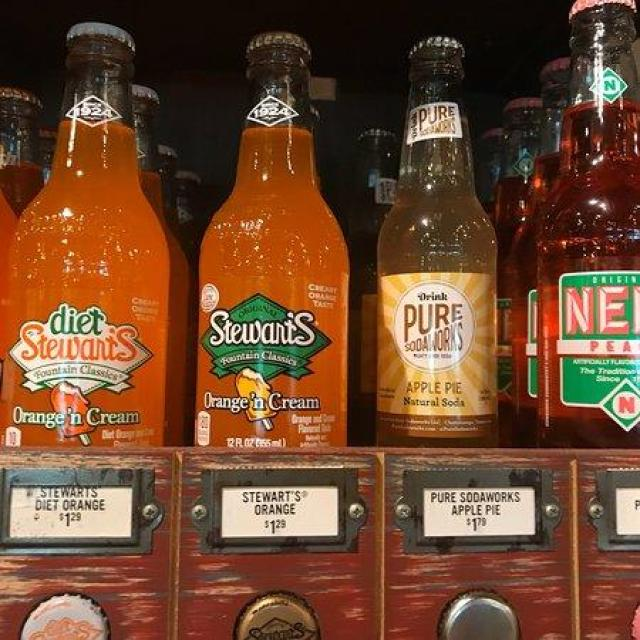glass bottle: (4, 20, 169, 446), (196, 31, 348, 446), (375, 36, 499, 447), (533, 0, 640, 448)
